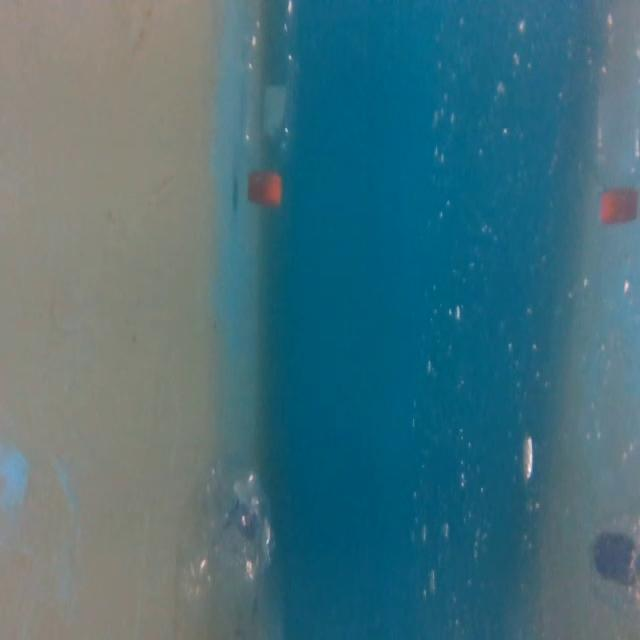plastic bags: (175, 448, 276, 599)
plastic bottle: (237, 0, 310, 208)
